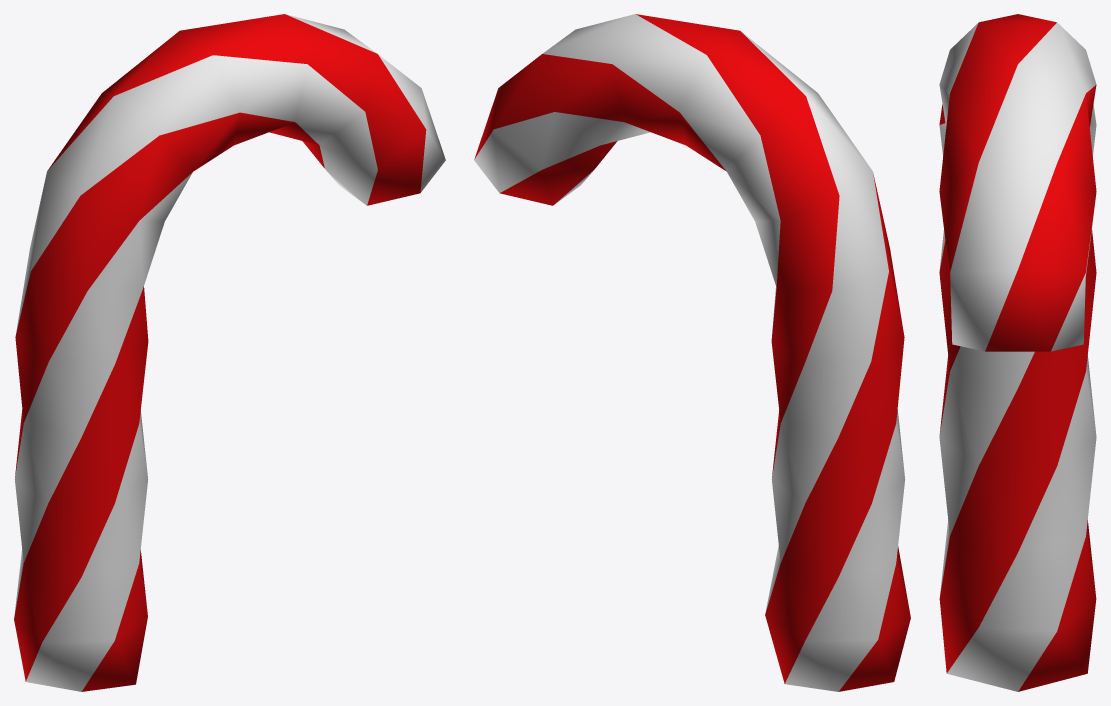
The model's file is candy.fbx.
3 renders of one model, left to right at view 1: azimuth 30°, elevation 25°; view 2: azimuth 150°, elevation 25°; view 3: azimuth 270°, elevation 25°, orthographic. The views are drawn at different scales.
Visible parts, largest first — view 1: Circle; view 2: Circle; view 3: Circle.
Boxes of the visible parts, <box> form: Circle: <box>14,14,445,691</box>; Circle: <box>474,14,910,691</box>; Circle: <box>939,14,1096,691</box>.
Size of the model in its own units: 258 by 365 by 73.01.
